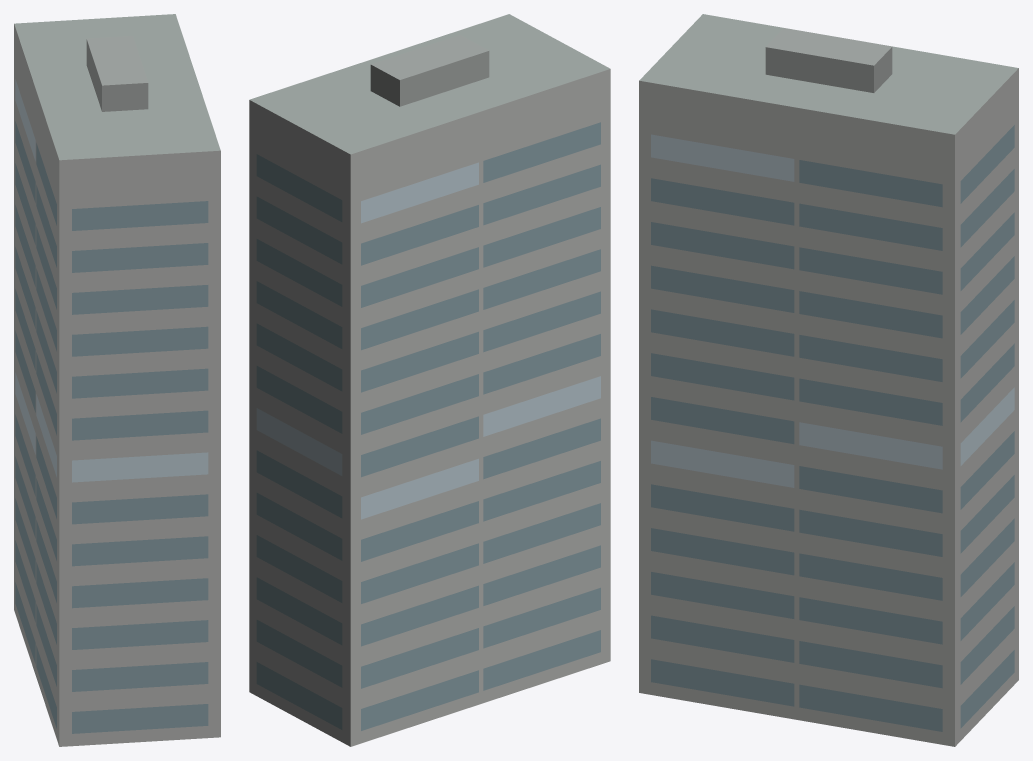
File: fallback-olympic-athletes-village-253.glb
3 views of the same model, side by side, from view 1: azimuth 30°, elevation 25°; view 2: azimuth 150°, elevation 25°; view 3: azimuth 270°, elevation 25° (orthographic). The views are drawn at different scales.
Parts seen in each view (by area): view 1: fallback-olympic-athletes-village-253; view 2: fallback-olympic-athletes-village-253; view 3: fallback-olympic-athletes-village-253.
Boxes of the visible parts, box(x1,y1,x2,y2) form: fallback-olympic-athletes-village-253: box(14, 14, 220, 746); fallback-olympic-athletes-village-253: box(249, 14, 610, 746); fallback-olympic-athletes-village-253: box(639, 14, 1018, 746).
Bounding box in the file's own units: 18.07 × 44.62 × 24.
